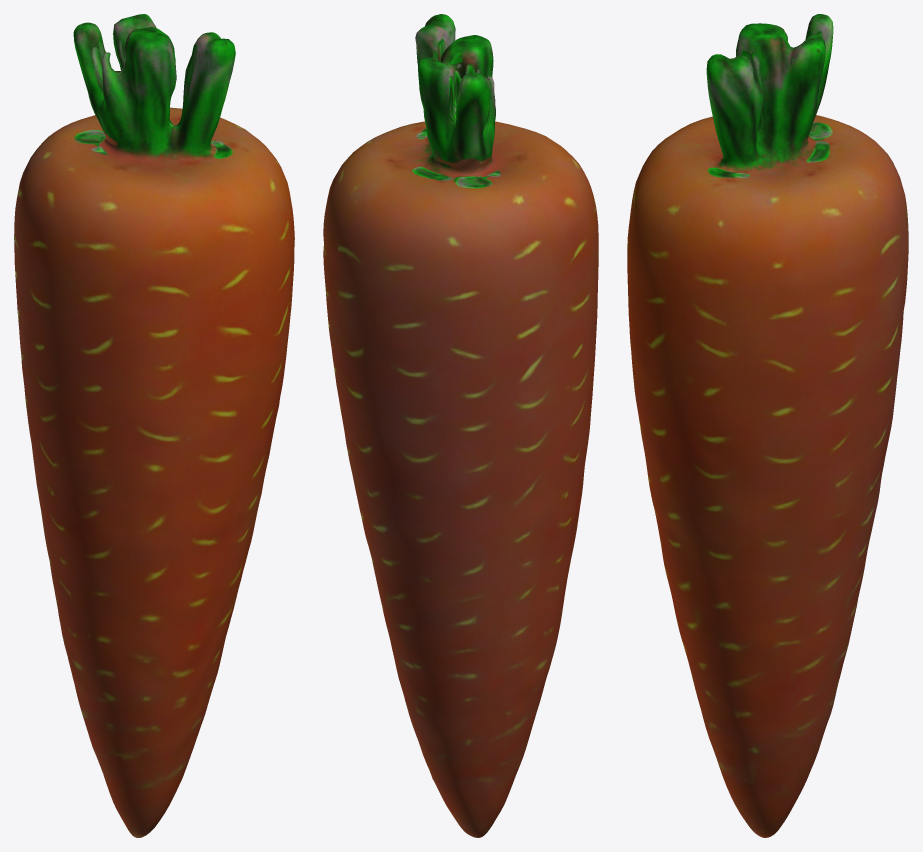
The model's file is carrot.glb.
3 renders of one model, left to right at view 1: azimuth 30°, elevation 25°; view 2: azimuth 150°, elevation 25°; view 3: azimuth 270°, elevation 25°, orthographic. The views are drawn at different scales.
Visible parts, largest first — view 1: base_material-material; view 2: base_material-material; view 3: base_material-material.
Boxes of the visible parts, x1,y1,x2,y2 form: base_material-material: (14, 14, 294, 837); base_material-material: (323, 14, 598, 837); base_material-material: (627, 14, 908, 837).
Size of the model in its own units: 0.3118 by 0.9997 by 0.3135.
Materials: 1 (1 with a texture image).
